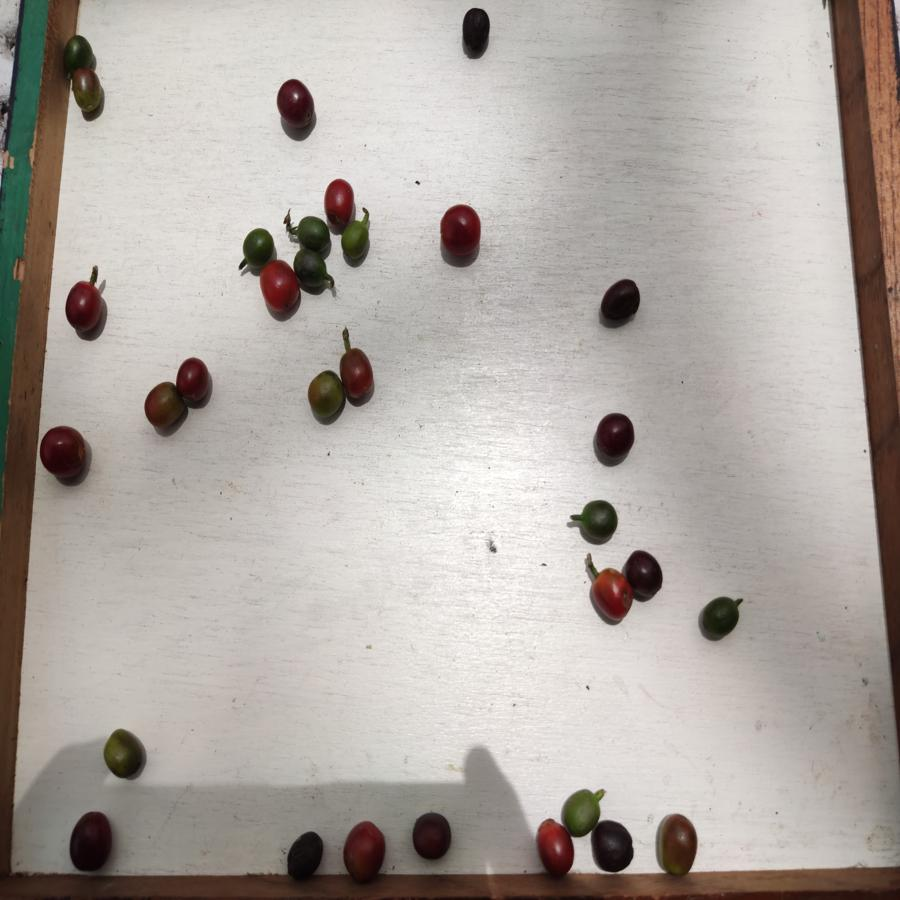Inmaduro: (569, 498, 618, 539), (702, 594, 741, 642), (295, 251, 340, 288), (561, 790, 603, 828), (291, 216, 333, 251), (59, 36, 102, 66), (342, 223, 374, 261), (241, 230, 275, 259)
Maduro: (341, 820, 388, 883), (437, 201, 484, 257), (535, 818, 575, 880), (258, 260, 302, 315), (590, 569, 628, 625), (340, 346, 376, 398), (325, 180, 354, 225)
Pinton: (101, 724, 146, 782), (659, 814, 697, 876), (69, 66, 105, 123), (307, 371, 345, 423), (143, 381, 183, 428)
Sobremaduro: (38, 422, 90, 479), (69, 813, 113, 874), (408, 811, 456, 861), (592, 820, 635, 873), (593, 414, 640, 460), (283, 829, 327, 878), (277, 78, 317, 131), (62, 283, 105, 332), (625, 548, 664, 600), (598, 277, 641, 323), (458, 7, 494, 59), (178, 357, 213, 406)
